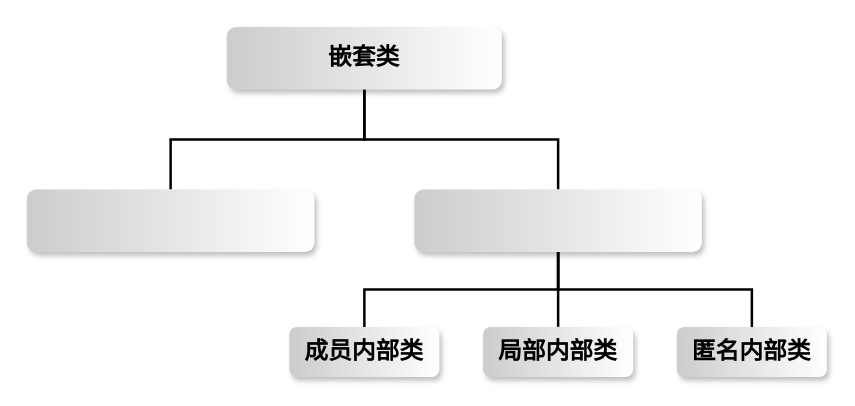
Image size: 855x406. Some labels were removed from this diagram. Each missing label, with the centre of its shape:
静态嵌套类: [171,222]
非静态嵌套类（内部类）: [559,222]
